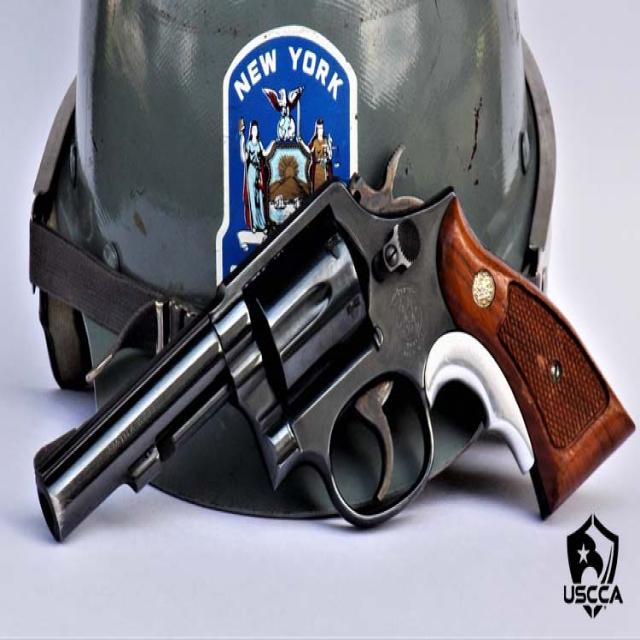HandGun: (34, 147, 637, 544)
